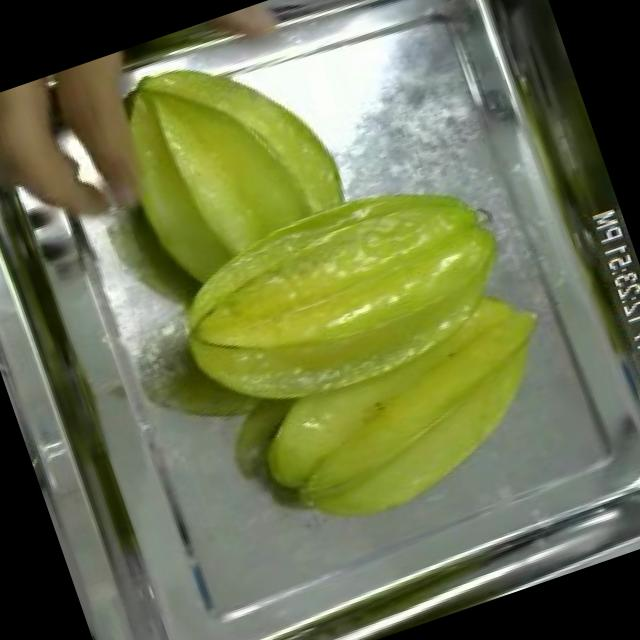fruit: (134, 119, 594, 578), (80, 10, 378, 333)
